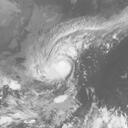cyclone: (31, 47, 76, 88)
